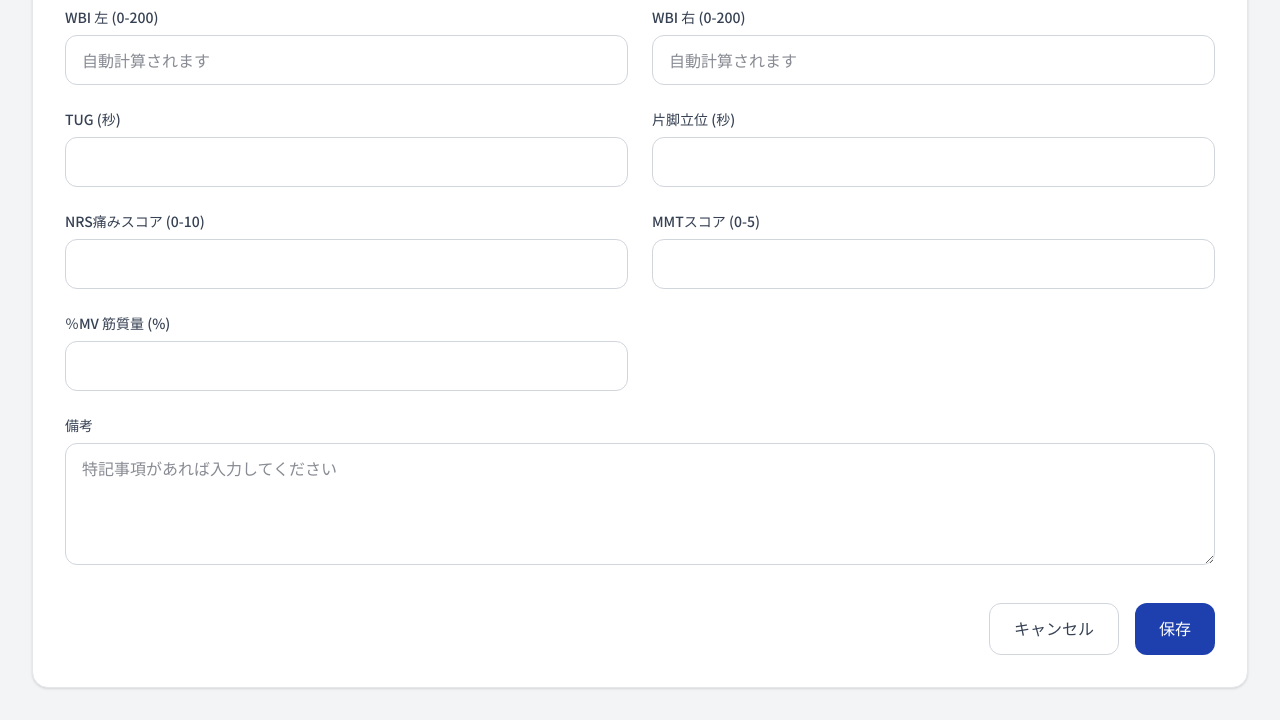
S-05 MeasurementInput › form submission › should disable save button while submitting
The image size is (1280, 720).
(page scrolled)
Click the button "保存": (1175, 629) [1135,603,1215,655]
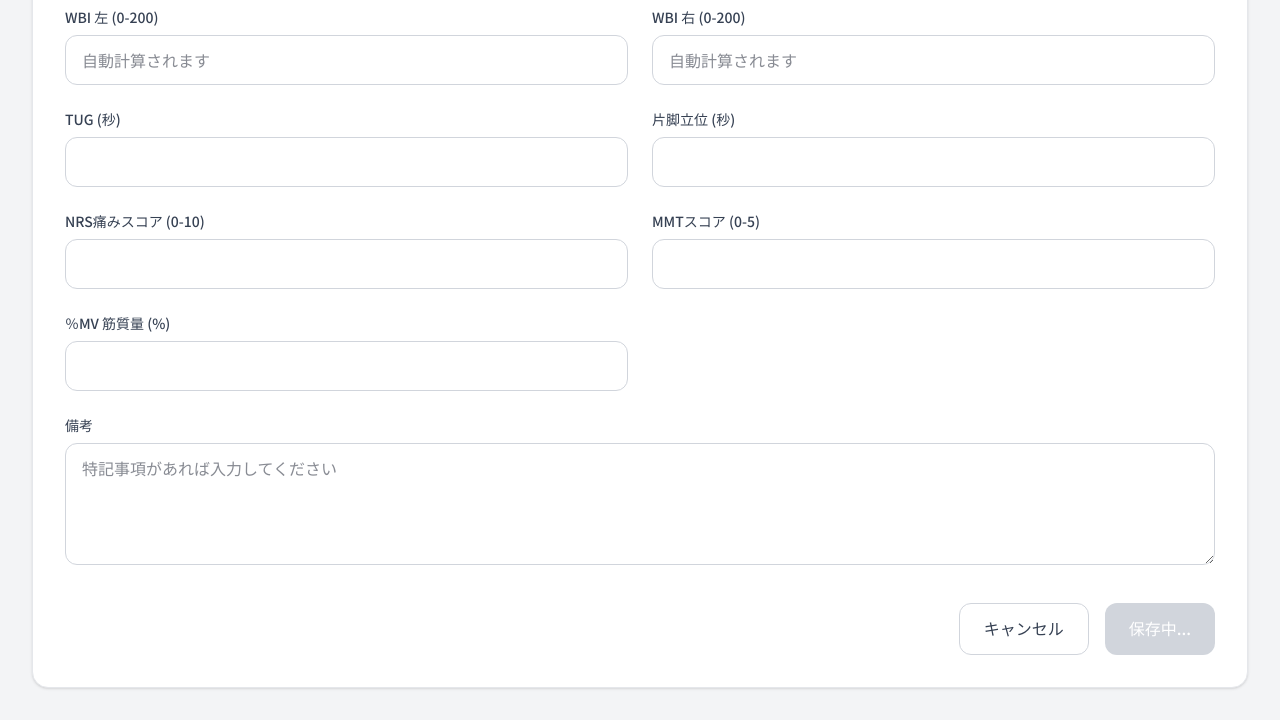
Now the button "保存中..." is disabled, box [1105,603,1215,655]
